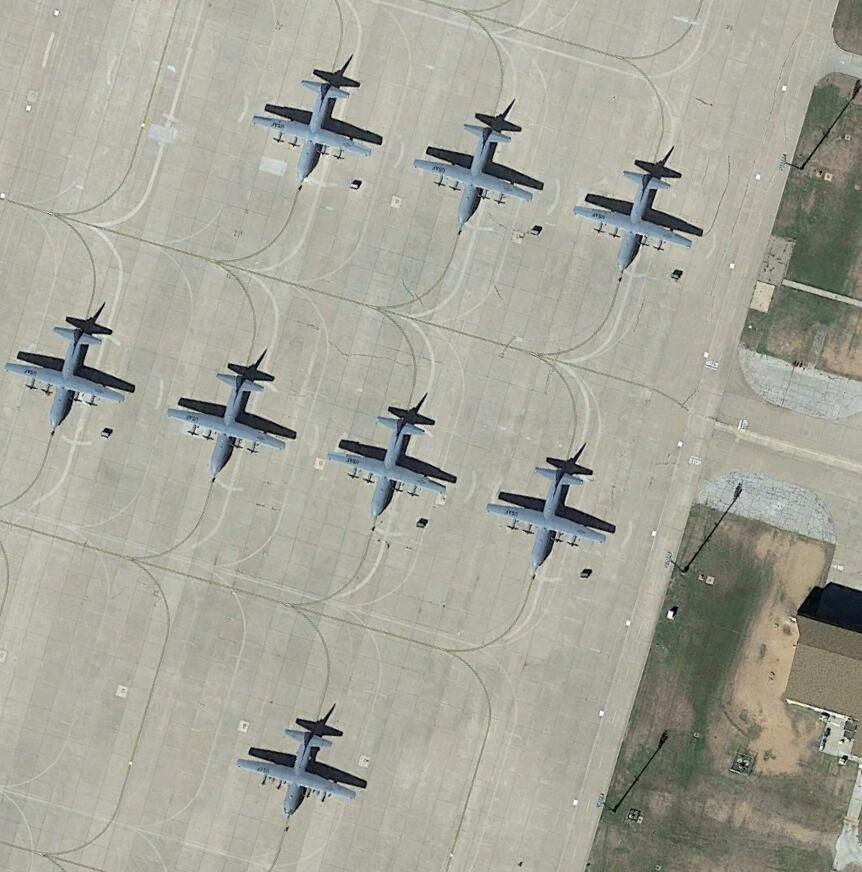A2: (319, 409, 462, 525), (481, 456, 621, 571), (407, 115, 548, 229), (162, 366, 303, 478), (566, 164, 711, 272), (229, 718, 372, 826), (1, 319, 140, 430), (245, 73, 380, 181)
